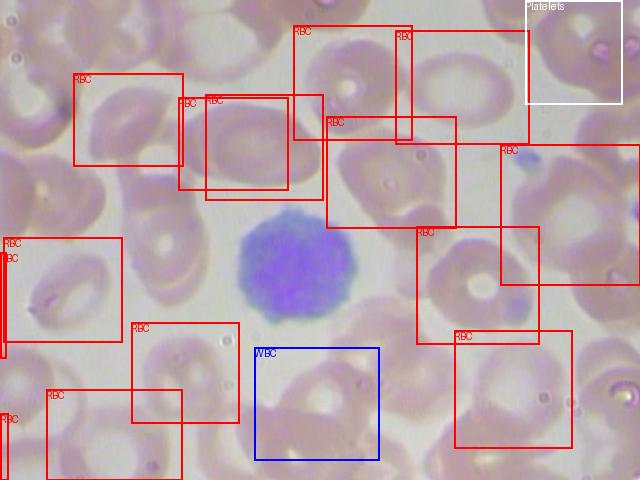Platelets: (525, 0, 622, 104)
RBC: (500, 144, 640, 285), (395, 30, 529, 144), (326, 116, 456, 228), (416, 226, 539, 344), (454, 330, 572, 448), (293, 25, 412, 140), (205, 94, 323, 200), (3, 237, 122, 342), (46, 389, 182, 480), (131, 322, 239, 423), (178, 97, 288, 190), (73, 73, 183, 166), (0, 252, 6, 358), (0, 413, 8, 480)
WBC: (254, 347, 379, 460)
